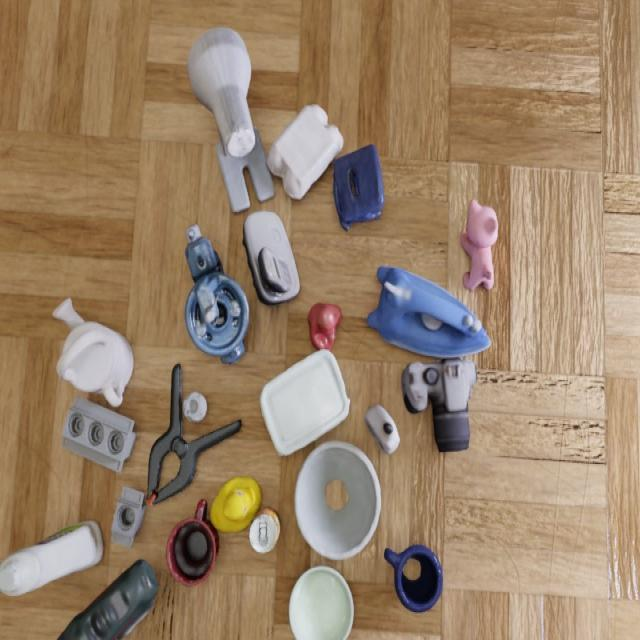Other Objects: (294, 441, 380, 559), (260, 349, 349, 455), (185, 225, 248, 363), (53, 299, 133, 405), (57, 559, 158, 639), (0, 521, 102, 595), (267, 105, 343, 199), (401, 359, 476, 451), (62, 397, 133, 471), (243, 211, 299, 304), (289, 567, 353, 639), (166, 500, 218, 585), (334, 144, 382, 229), (384, 545, 442, 612), (460, 200, 497, 289), (209, 477, 261, 531), (111, 487, 145, 545), (365, 405, 399, 453), (307, 303, 341, 349), (248, 508, 279, 553)
